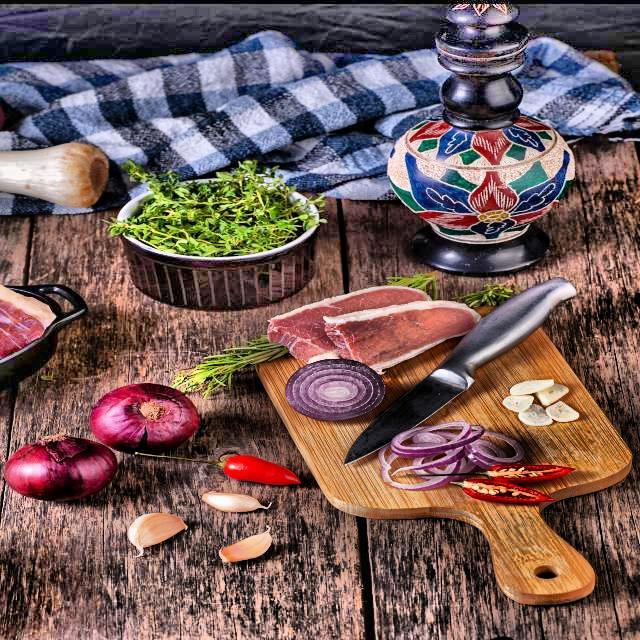knife: (338, 276, 584, 468)
